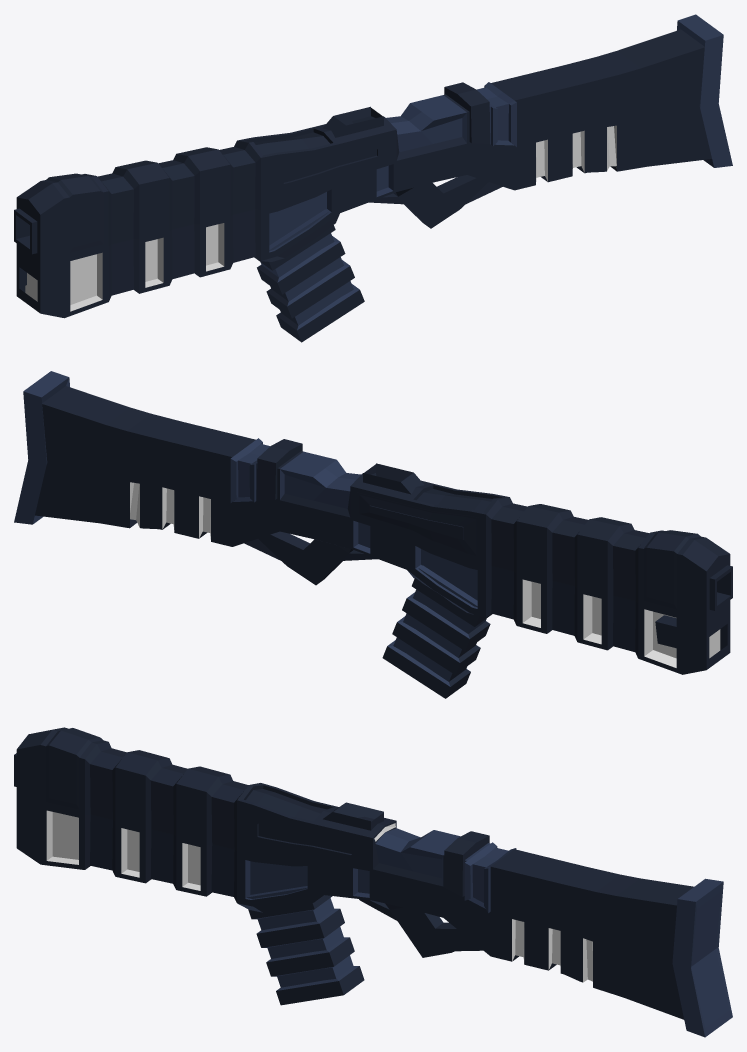
The model's file is gun_final.fbx.
The picture shows the model from 3 angles, top to bottom: view 1: azimuth 30°, elevation 25°; view 2: azimuth 150°, elevation 25°; view 3: azimuth 330°, elevation 25°; orthographic projection.
Visible parts, largest first — view 1: Cube.007; view 2: Cube.007; view 3: Cube.007.
Part boxes in pixels (x1,y1,x2,y2): Cube.007: (14, 14, 732, 342); Cube.007: (14, 371, 732, 698); Cube.007: (14, 727, 732, 1037).
Bounding box in the file's own units: 514 × 149 × 35.98.
